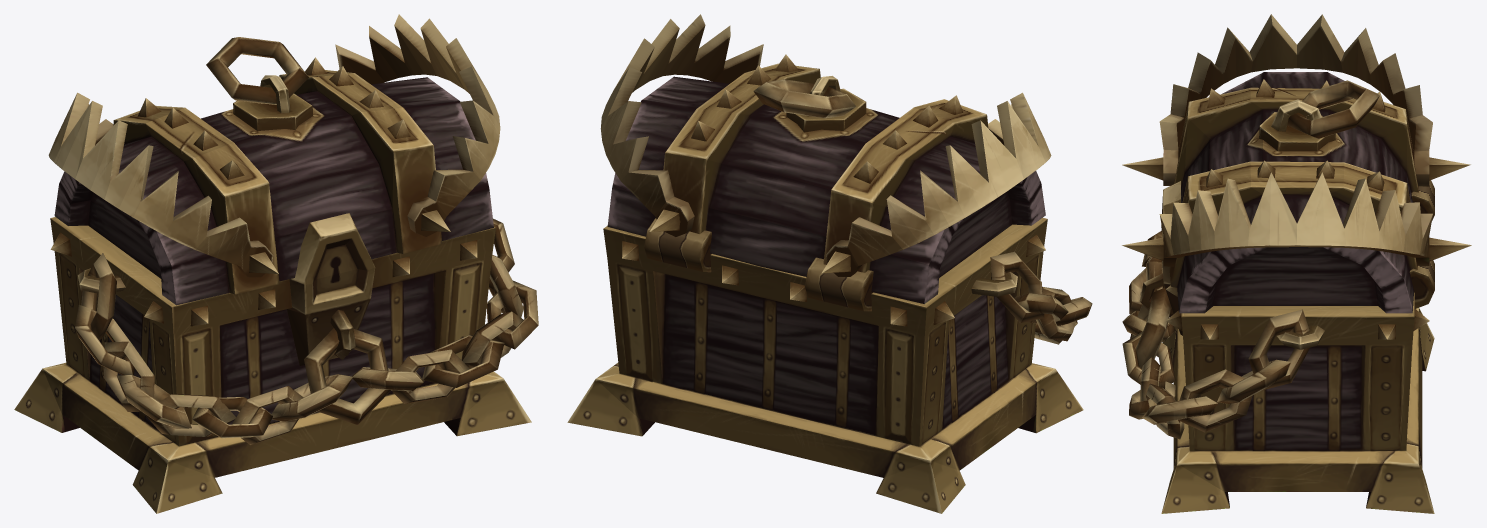
The model's file is Chest_4_skull.FBX.
The picture shows the model from 3 angles, left to right: view 1: azimuth 30°, elevation 25°; view 2: azimuth 150°, elevation 25°; view 3: azimuth 270°, elevation 25°; orthographic projection. The views are drawn at different scales.
Visible parts, largest first — view 1: Chest_4, Chest_4_cap; view 2: Chest_4, Chest_4_cap; view 3: Chest_4_cap, Chest_4.
Boxes of the visible parts, x1=… form: Chest_4: x1=14, y1=213, x2=538, y2=513; Chest_4_cap: x1=48, y1=14, x2=500, y2=305; Chest_4: x1=567, y1=218, x2=1092, y2=513; Chest_4_cap: x1=600, y1=14, x2=1051, y2=303; Chest_4_cap: x1=1122, y1=14, x2=1471, y2=313; Chest_4: x1=1122, y1=180, x2=1434, y2=513.
Bounding box in the file's own units: 3.35 × 2.64 × 2.48.
